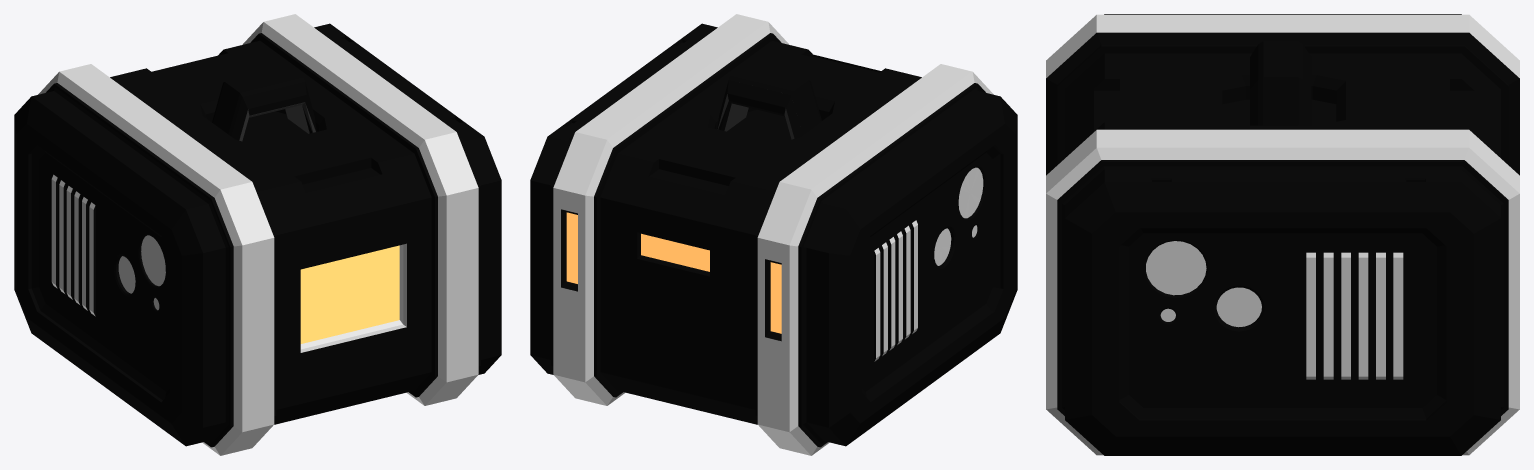
File: Normal_Crate.fbx
3 views of the same model, side by side, from view 1: azimuth 30°, elevation 25°; view 2: azimuth 150°, elevation 25°; view 3: azimuth 270°, elevation 25° (orthographic). The views are drawn at different scales.
Visible parts, largest first — view 1: crate; view 2: crate; view 3: crate.
Part boxes in pixels (left/top/right/bottom): crate: left=14, top=14, right=501, bottom=455; crate: left=530, top=14, right=1017, bottom=455; crate: left=1046, top=14, right=1519, bottom=455.
Bounding box in the file's own units: 76.41 × 66.21 × 85.46.
